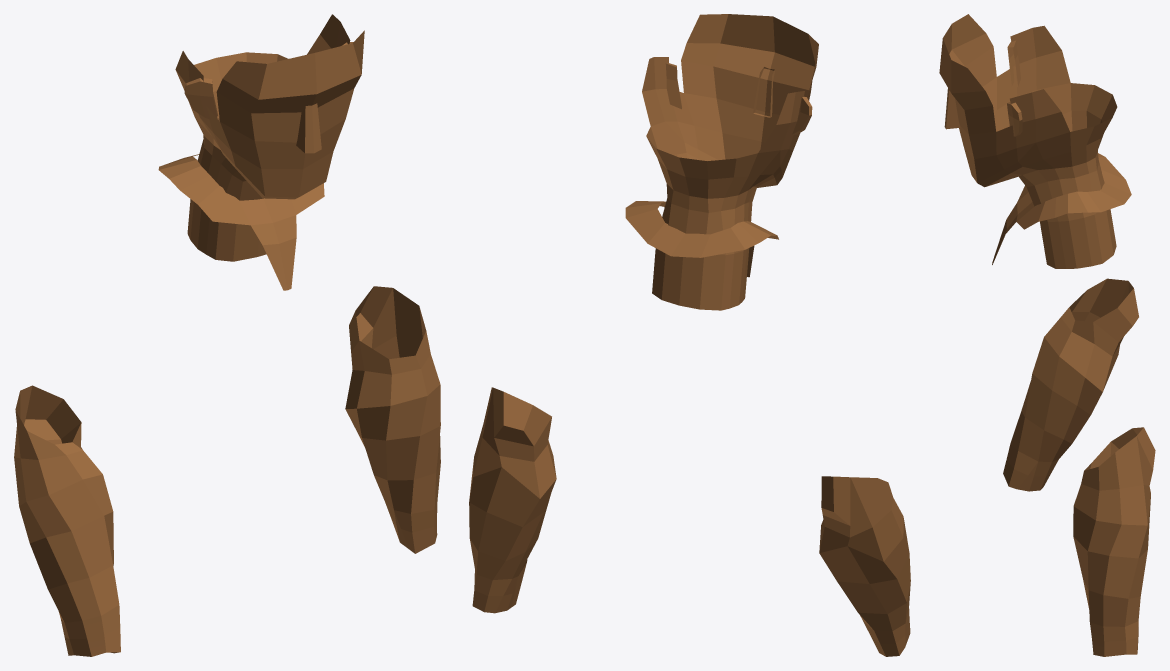
File: Skin_005.obj
3 views of the same model, side by side, from view 1: azimuth 30°, elevation 25°; view 2: azimuth 150°, elevation 25°; view 3: azimuth 270°, elevation 25° (orthographic). The views are drawn at different scales.
Bounding box in the file's own units: 0.5342 × 0.7193 × 0.2633.
